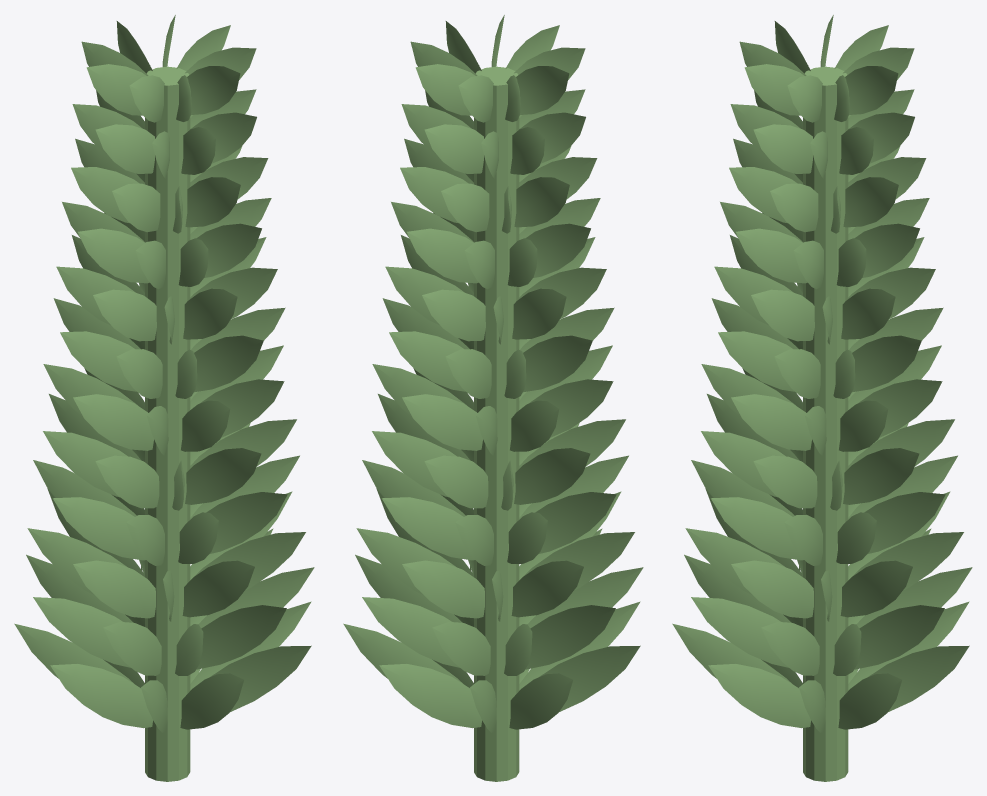
File: hornwort.glb
3 views of the same model, side by side, from view 1: azimuth 30°, elevation 25°; view 2: azimuth 150°, elevation 25°; view 3: azimuth 270°, elevation 25° (orthographic).
Parts seen in each view (by area): view 1: hornwort, hornwort_stem; view 2: hornwort, hornwort_stem; view 3: hornwort, hornwort_stem.
Boxes of the visible parts, x1,y1,x2,y2 form: hornwort: (14, 15, 314, 732); hornwort_stem: (145, 66, 190, 781); hornwort: (343, 15, 643, 732); hornwort_stem: (474, 66, 519, 781); hornwort: (672, 15, 972, 732); hornwort_stem: (803, 66, 848, 781).
Bounding box in the file's own units: 0.3797 × 1 × 0.3778.
